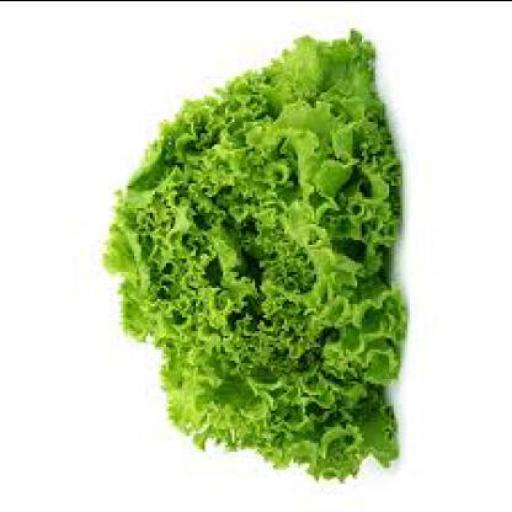biodegradable: (100, 27, 403, 483)
